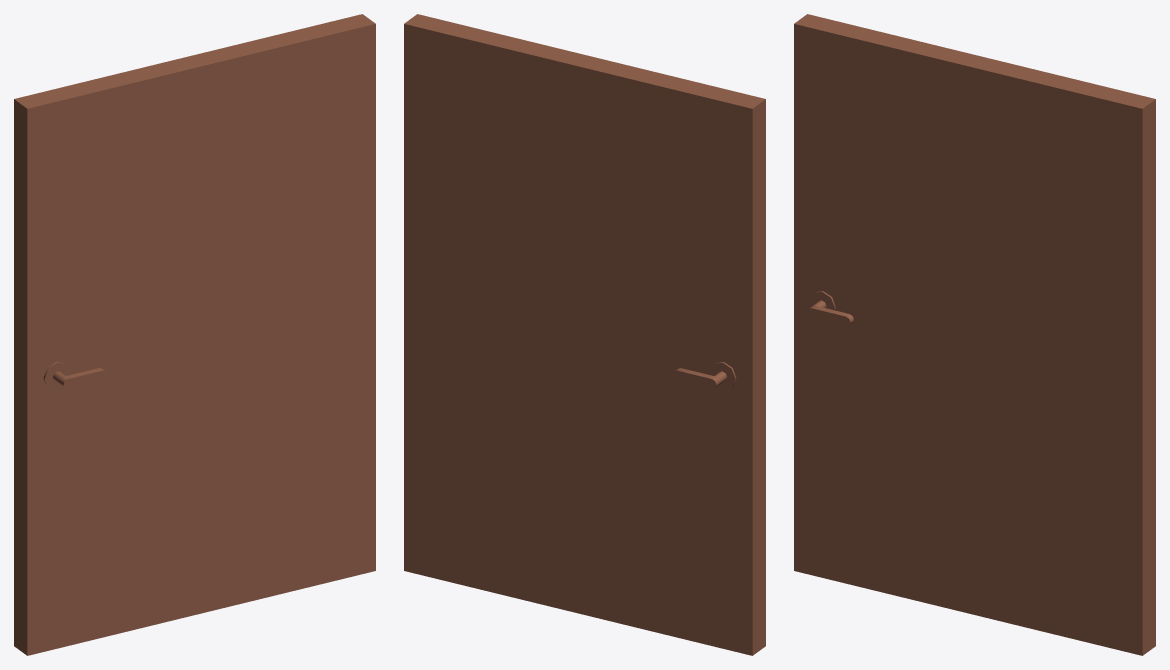
File: restroom_door_01_sm.glb
3 views of the same model, side by side, from view 1: azimuth 30°, elevation 25°; view 2: azimuth 150°, elevation 25°; view 3: azimuth 330°, elevation 25° (orthographic).
Visible parts, largest first — view 1: RestroomDoor.001; view 2: RestroomDoor.001; view 3: RestroomDoor.001.
Part boxes in pixels (x1=…): RestroomDoor.001: x1=14, y1=14, x2=375, y2=655; RestroomDoor.001: x1=404, y1=14, x2=765, y2=655; RestroomDoor.001: x1=794, y1=14, x2=1155, y2=655.
Size of the model in its own units: 1.5 by 2.25 by 0.2739.
